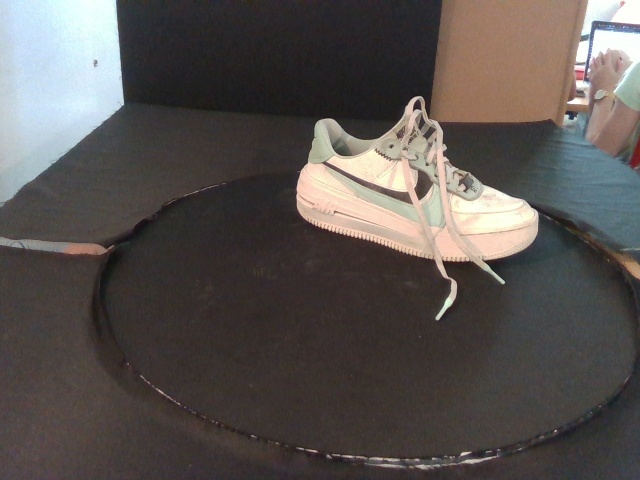shoe: (295, 105, 539, 262)
